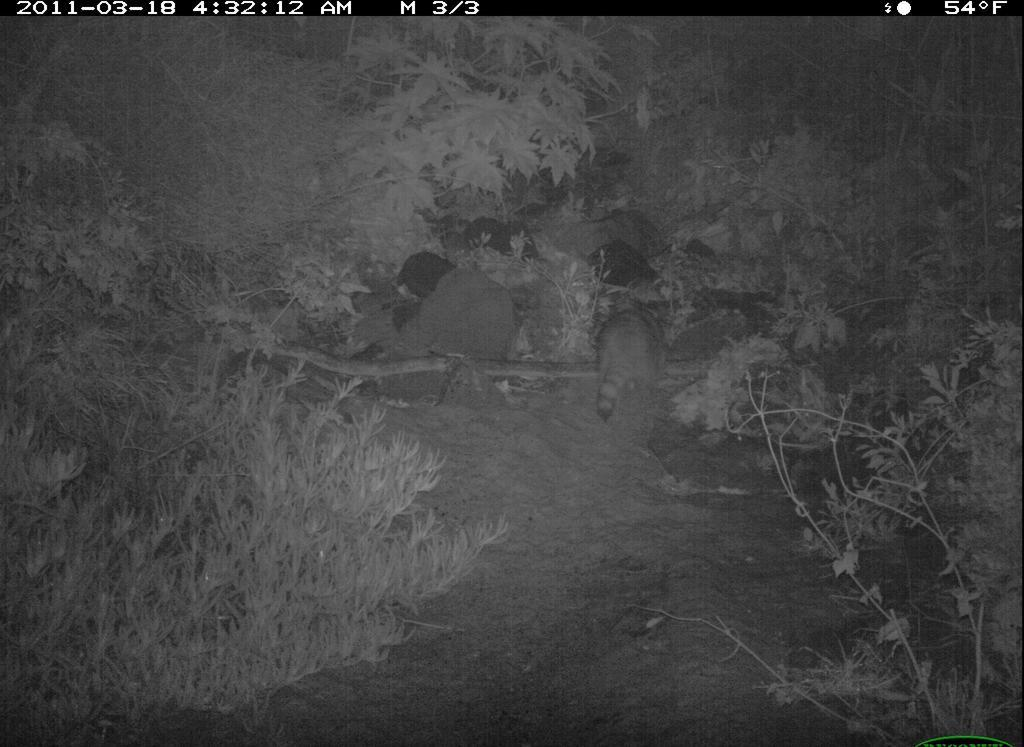raccoon: (578, 299, 670, 425)
